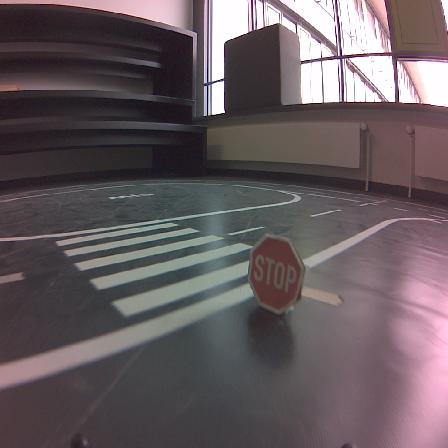STOP: (249, 234, 304, 314)
